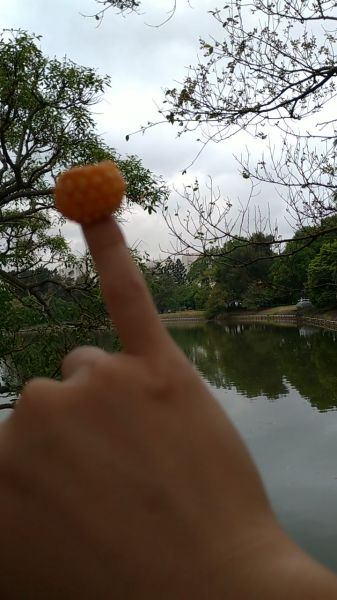eggs: (55, 159, 126, 222)
